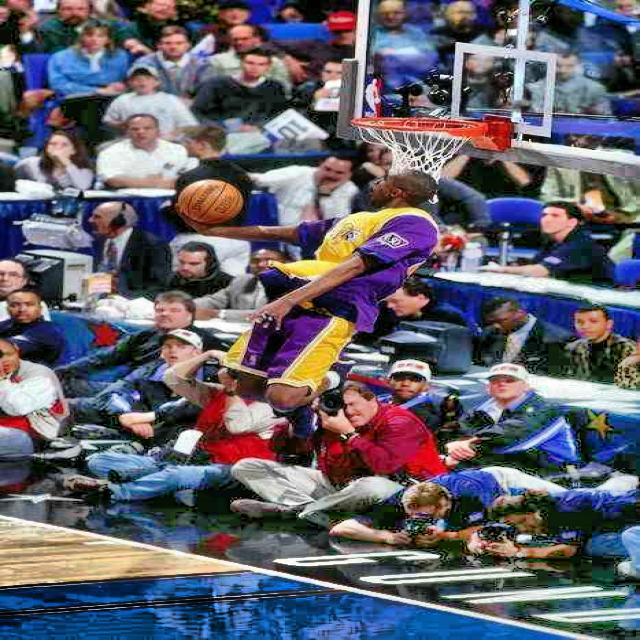board: (179, 179, 243, 224)
rim: (353, 118, 480, 172)
